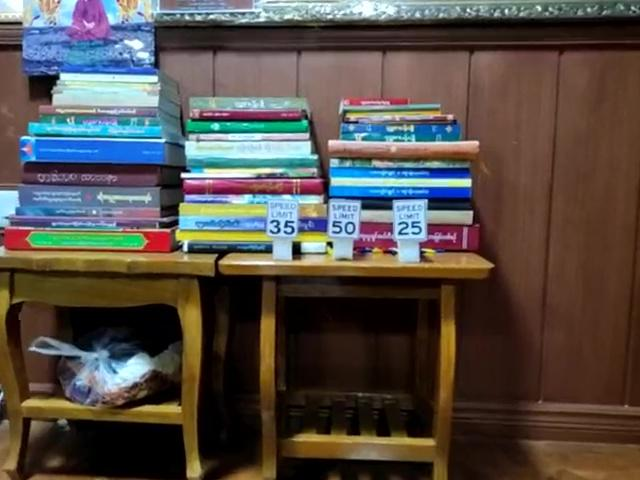Speed Limit 25: (392, 199, 426, 239)
Speed Limit 35: (267, 196, 300, 237)
Speed Limit 50: (328, 197, 363, 237)
